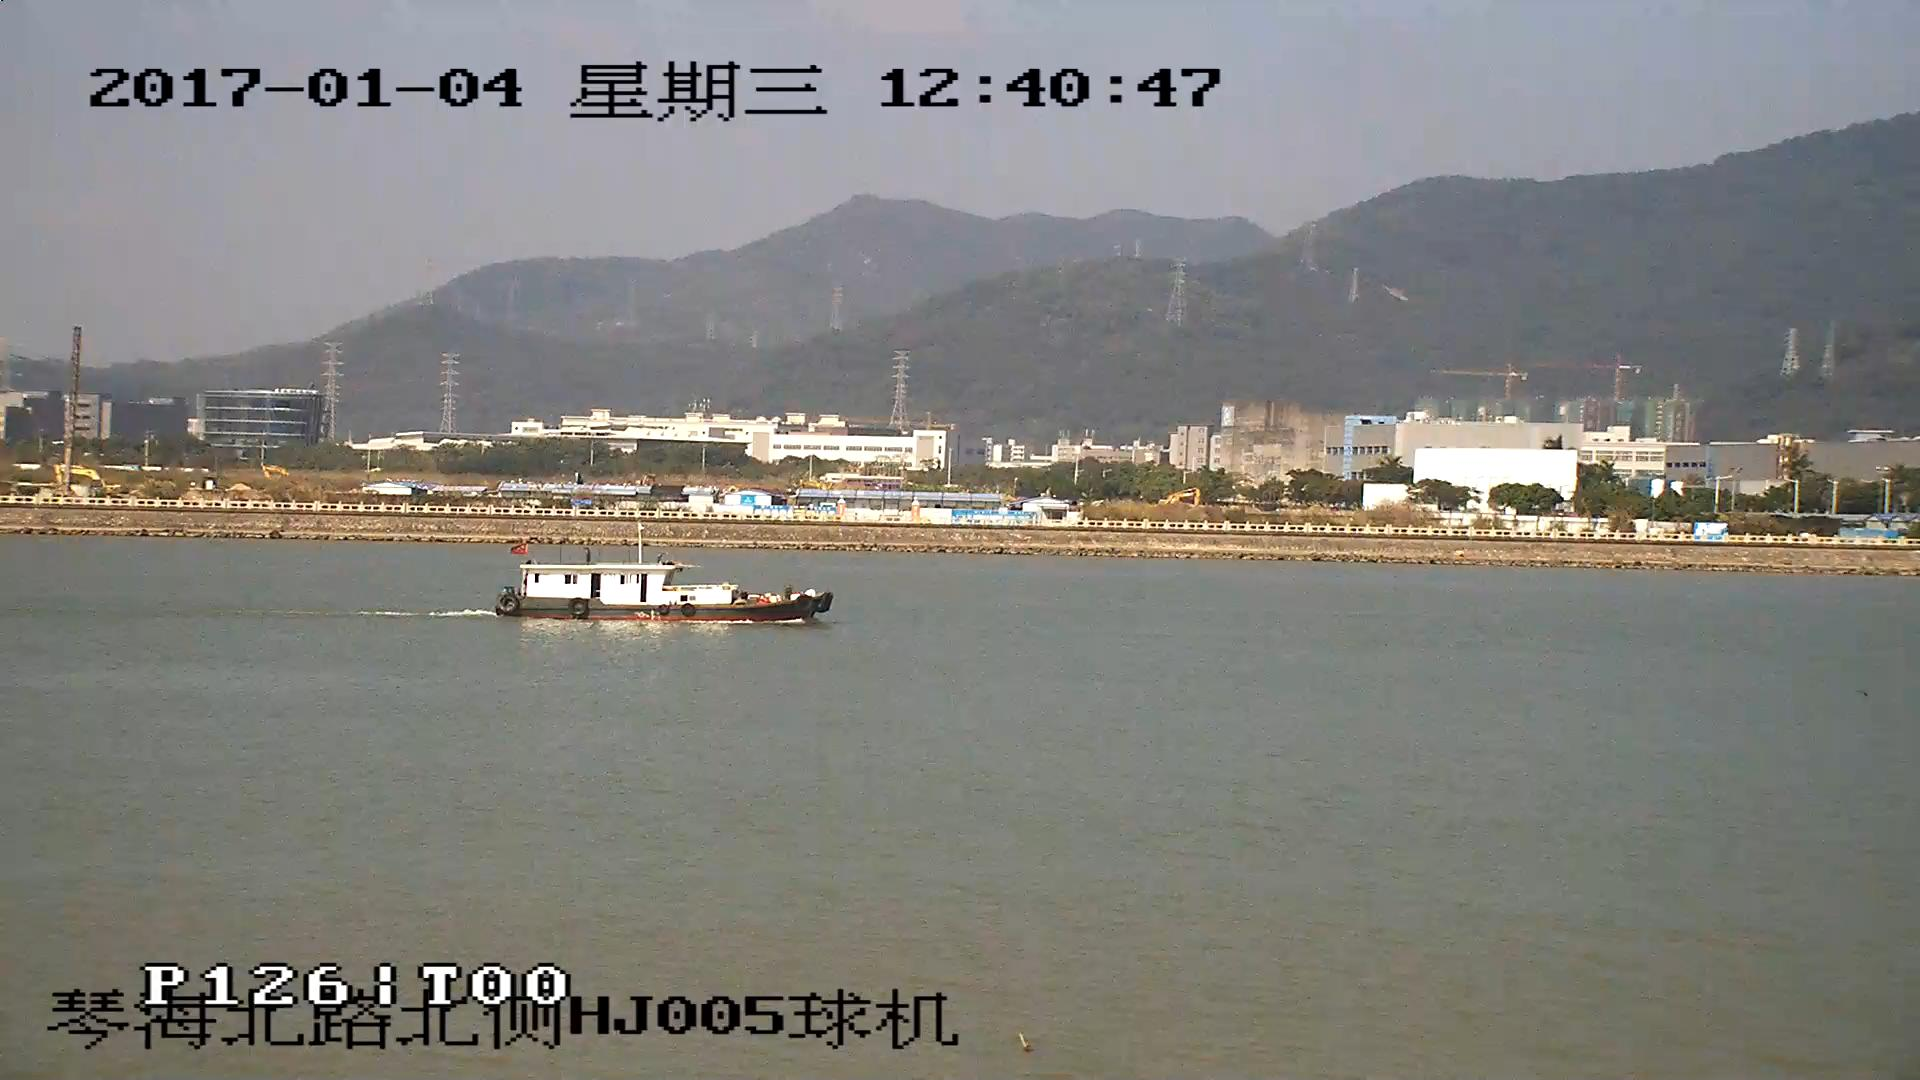fishing boat: (491, 519, 832, 623)
